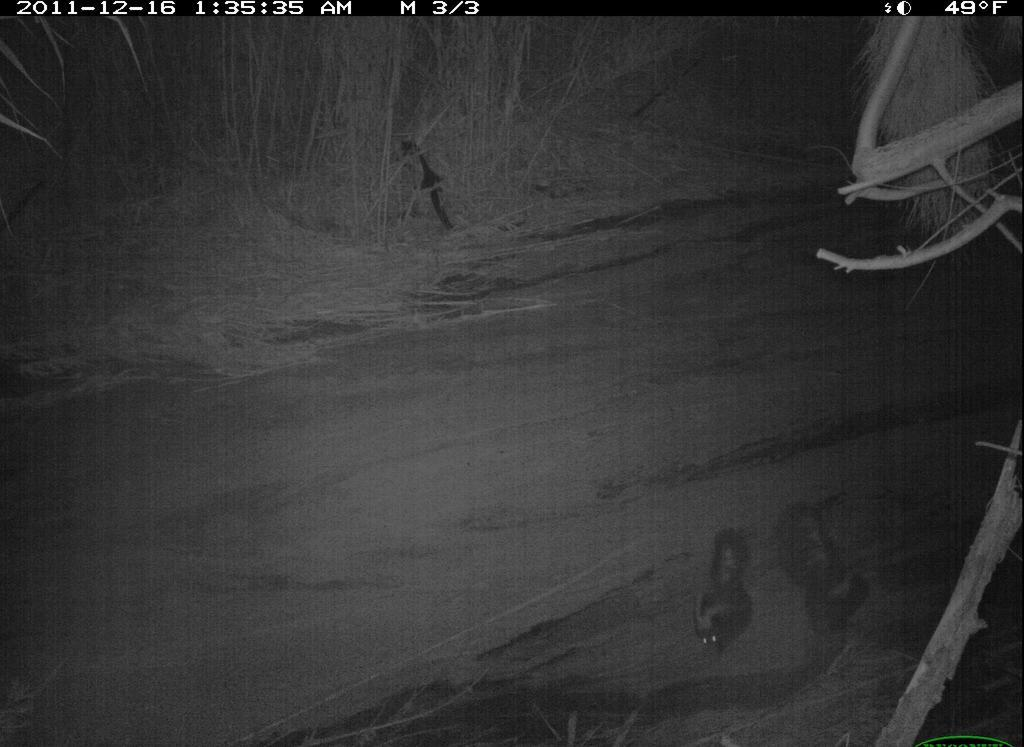skunk: (774, 497, 879, 642), (692, 528, 761, 661)
